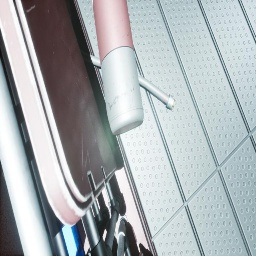NitrogenTank ,: (92, 0, 144, 135)
